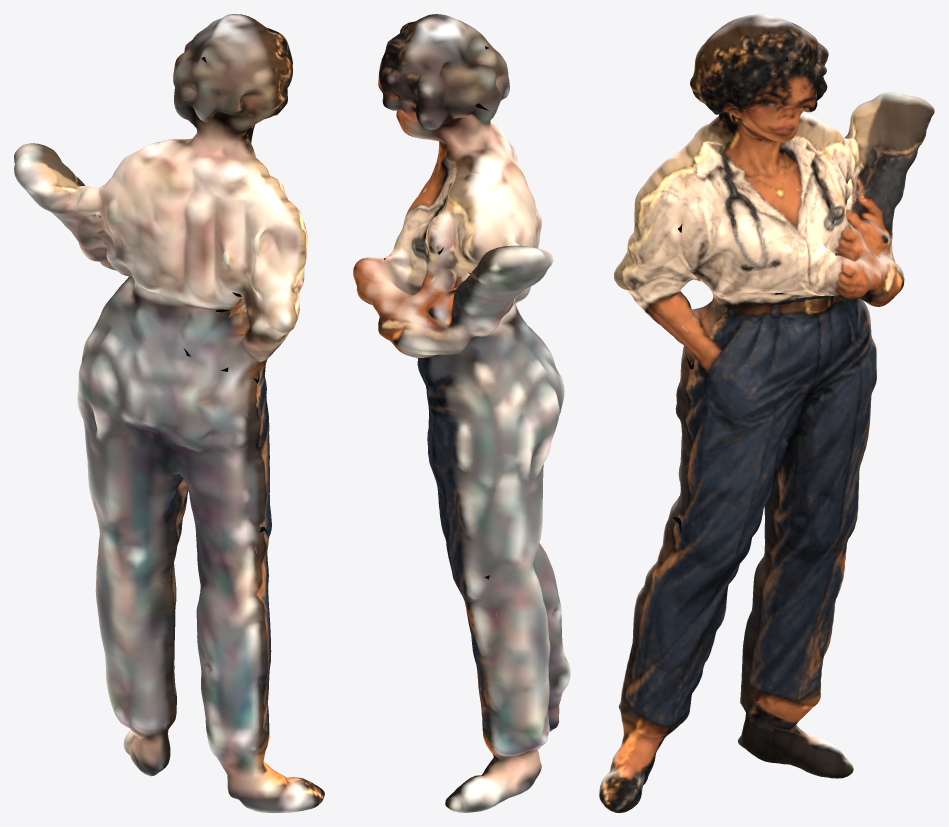
The picture shows the model from 3 angles, left to right: view 1: azimuth 30°, elevation 25°; view 2: azimuth 150°, elevation 25°; view 3: azimuth 270°, elevation 25°; orthographic projection. The views are drawn at different scales.
Parts seen in each view (by area): view 1: source-10; view 2: source-10; view 3: source-10.
Boxes of the visible parts, x1,y1,x2,y2 form: source-10: (14, 14, 324, 812); source-10: (353, 14, 570, 812); source-10: (599, 14, 934, 812).
Size of the model in its own units: 0.5923 by 2 by 0.7697.
1 material, 1 textured.
